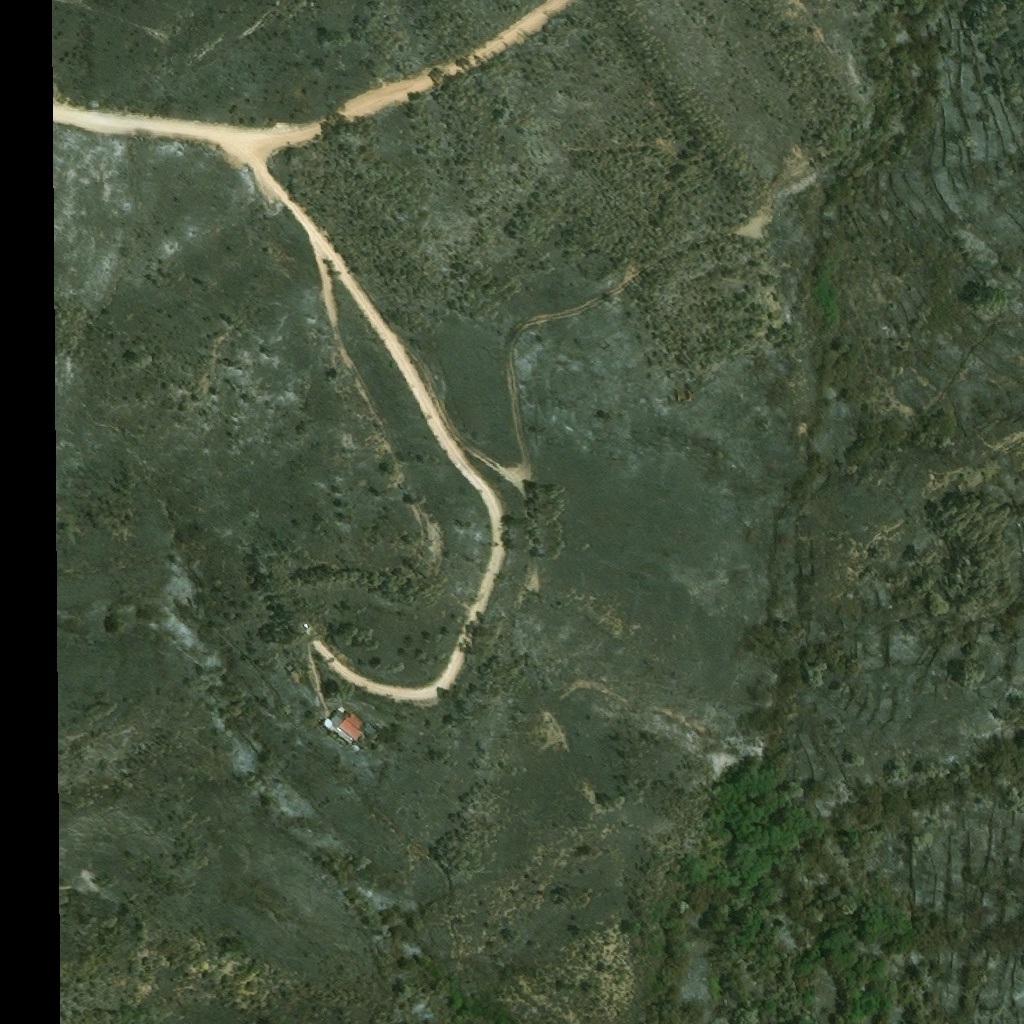0 no-damage: (326, 710, 365, 744)
